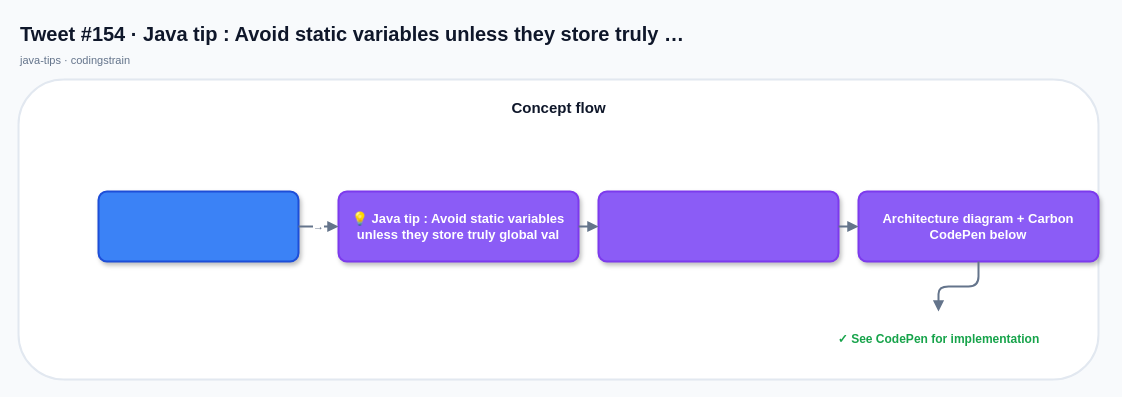
Image size: 1122x397. Some labels were removed from this diagram. The shapes that lost their labels are listed below. From the top down, each one's centre as x and y in pixels, then its label:
the point at 199,227: Problem / context
the point at 719,227: Runnable sample: `java-tips`
